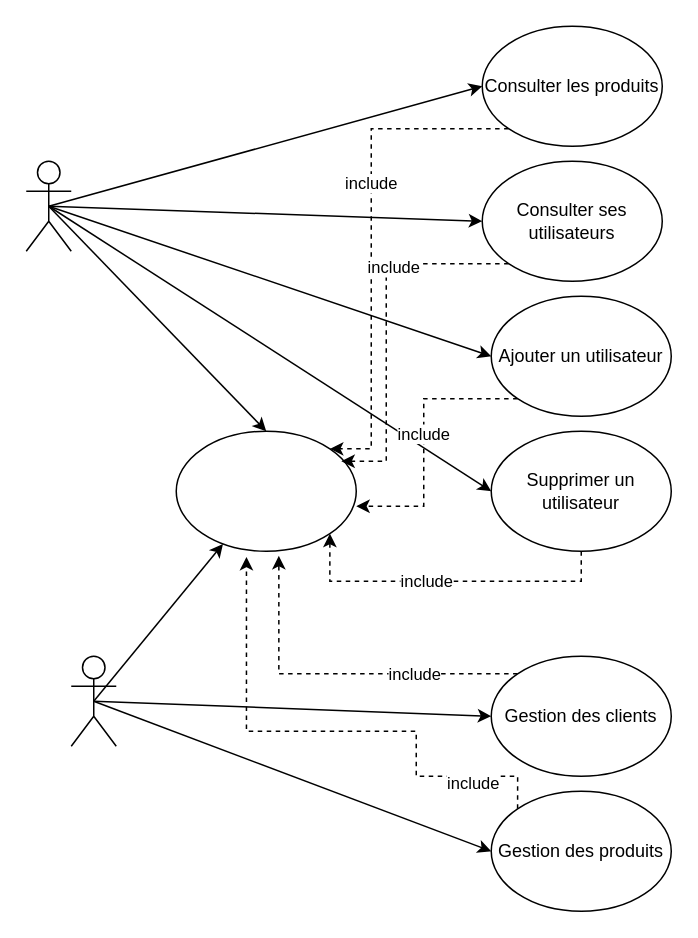
This 698x938 diagram has some shape labels left out. The box of each missing label's shape, as (x1, y1, x2, y2) in pixels:
Authentification: (175, 430, 356, 551)
Client: (25, 160, 71, 251)
Super admin: (70, 655, 116, 746)
